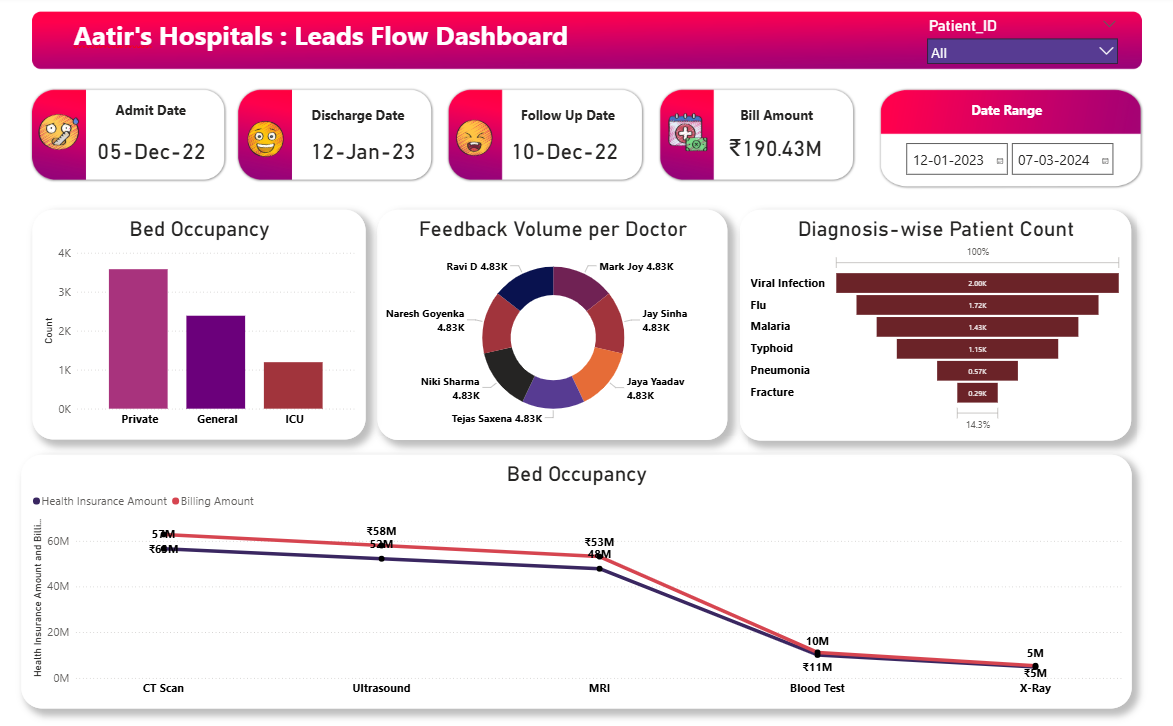

The page's visual inventory and layout, read from the dashboard file:
{"tool":"powerbi","page":{"name":"Page 2","canvas":[1680,1050],"ordinal":0},"visuals":[{"type":"textbox","box":[100.2,25.1,1120.1,75.2],"z":0},{"type":"image","box":[2636.7,100,623.3,150],"z":1000},{"type":"slicer","fields":{"Values":["Sheet1.Patient_ID"]},"box":[2400,373.3,793.3,420],"z":2000},{"type":"card","fields":{"Values":["Sheet1.Admit_Date"]},"box":[437.6,198.8,162.9,42.8],"z":3000},{"type":"card","fields":{"Values":["Sheet1.Discharge_Date"]},"box":[129.8,198.8,172.6,42.8],"z":4000},{"type":"card","fields":{"Values":["Sheet1.Followup Date"]},"box":[724.3,198.6,167.1,42.9],"z":5000},{"type":"textbox","box":[152.9,145.7,127.1,57.1],"z":6000},{"type":"textbox","box":[437.1,151.4,151.4,37.1],"z":7000},{"type":"textbox","box":[732.9,151.4,158.6,37.1],"z":8000},{"type":"textbox","box":[1035.7,151.4,151.4,37.1],"z":9000},{"type":"card","fields":{"Values":["Sheet1.Billing Amount"]},"box":[1031.4,194.3,158.6,42.9],"z":10000},{"type":"image","box":[50,157.1,68.6,74.3],"z":11000},{"type":"image","box":[348.6,172.9,62.9,62.9],"z":12000},{"type":"image","box":[640,171.4,77.1,62.9],"z":13000},{"type":"image","box":[951.4,158.6,65.7,71.4],"z":14000},{"type":"columnChart","title":"Bed Occupancy","fields":{"Category":["Sheet1.Bed_Occupancy"],"Y":["Sheet1.Bed_Occupancy"]},"box":[47.1,305.7,477.1,328.6],"z":15000},{"type":"donutChart","title":"Feedback Volume per Doctor","fields":{"Category":["Sheet1.Doctor"],"Y":["Sheet1.Feedback"]},"box":[540.2,305.2,501,329.5],"z":16000},{"type":"funnel","title":"Diagnosis-wise Patient Count","fields":{"Category":["Sheet1.Diagnosis"],"Y":["Sheet1.Diagnosis"]},"box":[1060,305.7,560,330],"z":17000},{"type":"lineChart","title":"Bed Occupancy","fields":{"Y":["Sheet1.Health Insurance Amount","Sheet1.Billing Amount"],"Category":["Sheet1.Test"]},"box":[31.1,656.3,1589.5,363.3],"z":19000},{"type":"slicer","fields":{"Values":["Sheet1.Admit_Date"]},"box":[1284.3,201.2,360.6,68.9],"z":20000},{"type":"slicer","fields":{"Values":["Sheet1.Patient_ID"]},"box":[1317.1,24.3,292.9,82.9],"z":21000},{"type":"textbox","box":[1365.7,145.7,151.4,37.1],"z":22000}]}

Visuals, with their boxes in screenshot pixels (x1, y1, x2, y2), scaled from the page's 1680x1050 canvas onto the 1173x726 screenshot:
textbox: (70, 17, 852, 69)
card - Sheet1.Admit_Date: (306, 137, 419, 167)
card - Sheet1.Discharge_Date: (91, 137, 211, 167)
card - Sheet1.Followup Date: (506, 137, 622, 167)
textbox: (107, 101, 196, 140)
textbox: (305, 105, 411, 130)
textbox: (512, 105, 622, 130)
textbox: (723, 105, 829, 130)
card - Sheet1.Billing Amount: (720, 134, 831, 164)
image: (35, 109, 83, 160)
image: (243, 120, 287, 163)
image: (447, 119, 501, 162)
image: (664, 110, 710, 159)
"Bed Occupancy" columnChart: (33, 211, 366, 439)
"Feedback Volume per Doctor" donutChart: (377, 211, 727, 439)
"Diagnosis-wise Patient Count" funnel: (740, 211, 1131, 440)
"Bed Occupancy" lineChart: (22, 454, 1132, 705)
slicer - Sheet1.Admit_Date: (897, 139, 1148, 187)
slicer - Sheet1.Patient_ID: (920, 17, 1124, 74)
textbox: (954, 101, 1059, 126)
